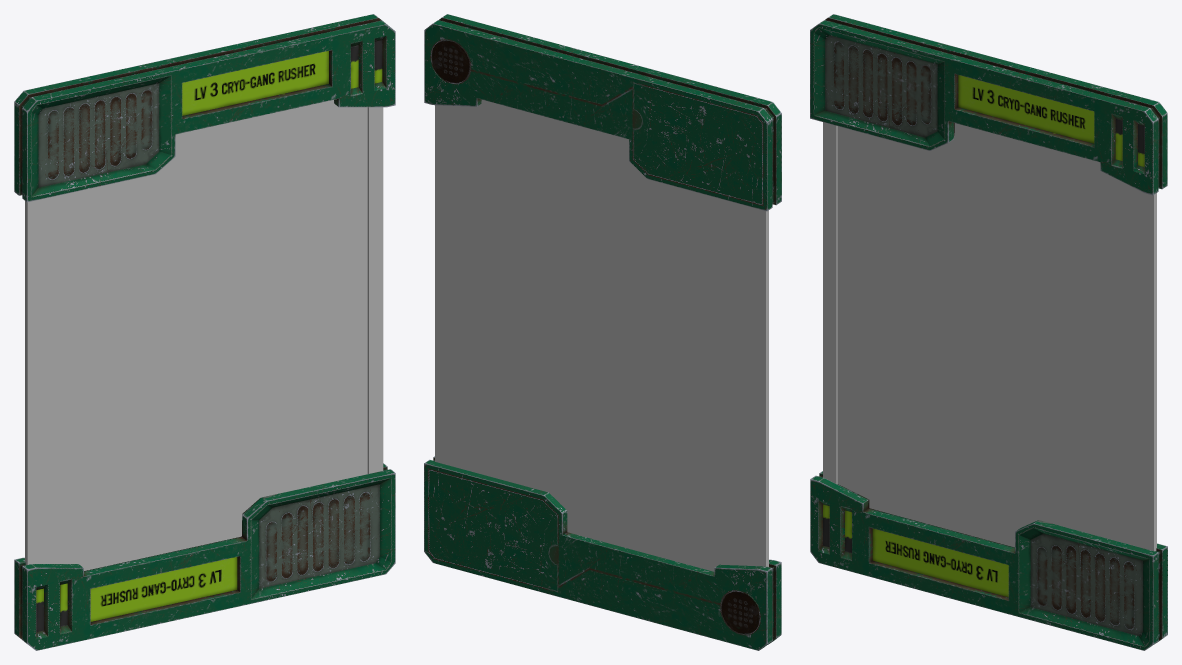
Rendered from cybercard.fbx.
3 renders of one model, left to right at view 1: azimuth 30°, elevation 25°; view 2: azimuth 150°, elevation 25°; view 3: azimuth 330°, elevation 25°, orthographic.
Visible parts, largest first — view 1: CYBERCARTA_SUB; view 2: CYBERCARTA_SUB; view 3: CYBERCARTA_SUB.
Part boxes in pixels (x1,y1,x2,y2): CYBERCARTA_SUB: (14,14,395,650); CYBERCARTA_SUB: (424,14,781,650); CYBERCARTA_SUB: (810,14,1167,650).
Size of the model in its own units: 1539 by 2244 by 172.
